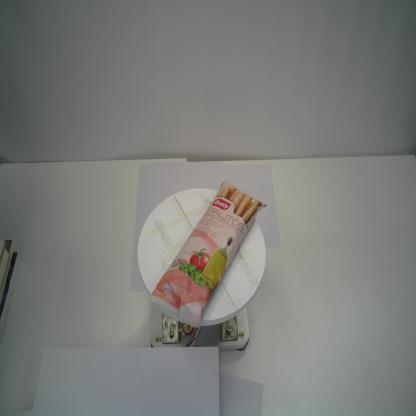Dessert: (148, 176, 269, 330)
